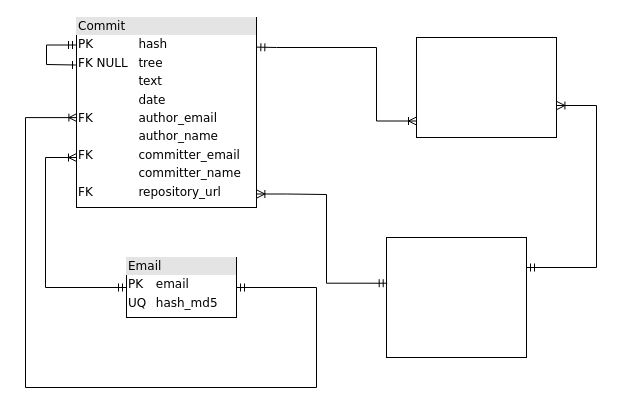
Some shapes in this 623 by 414 pixel diagram are drawn without their labels. Here are the shapes that lost their labels. From the top down, the box of each, then its label:
(416, 36, 556, 138): Branch PK id name FK repository_id FK head
(386, 236, 526, 358): Repository PK id UQ url creation_date updated_date uploader_ip
